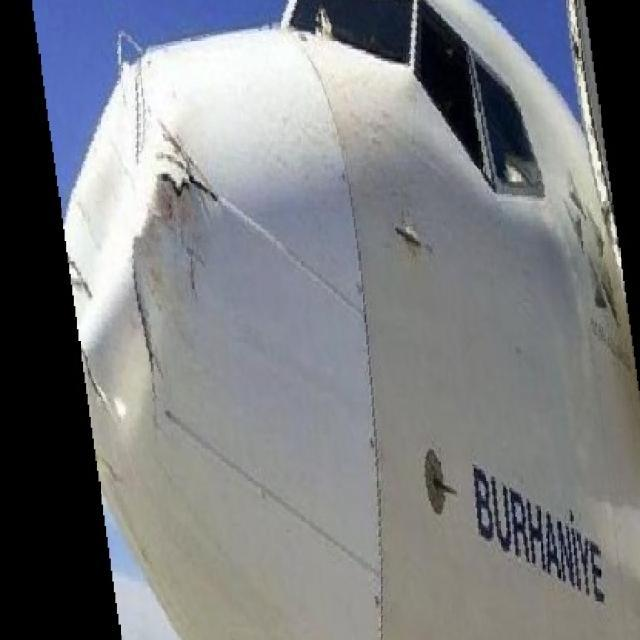dent: (63, 53, 206, 358)
